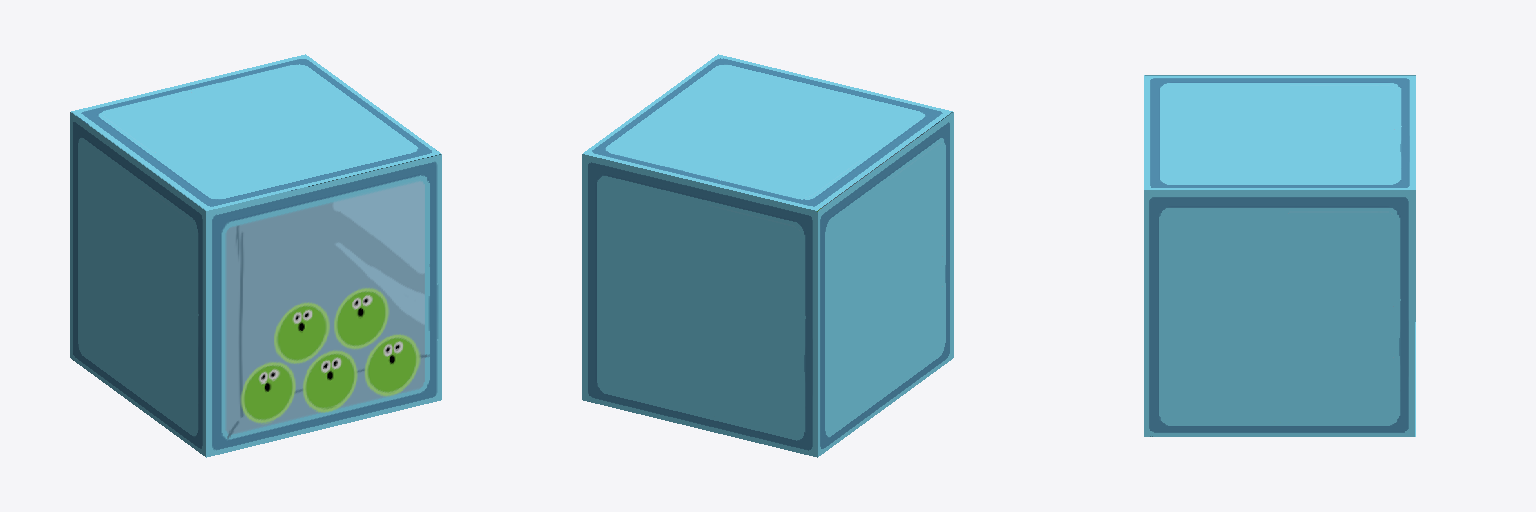
3 renders of one model, left to right at view 1: azimuth 30°, elevation 25°; view 2: azimuth 150°, elevation 25°; view 3: azimuth 270°, elevation 25°, orthographic.
Visible parts, largest first — view 1: Cube.001; view 2: Cube.001; view 3: Cube.001.
Part boxes in pixels (x1,y1,x2,y2): Cube.001: (70,54,441,457); Cube.001: (582,54,953,457); Cube.001: (1144,75,1415,436).
Bounding box in the file's own units: 2 × 2 × 2.
Materials: 1 (1 with a texture image).